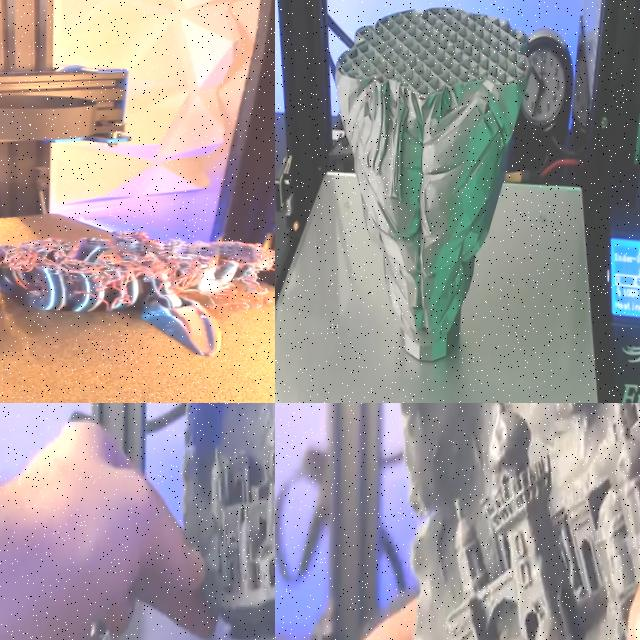spaghetti: (0, 233, 275, 323)
